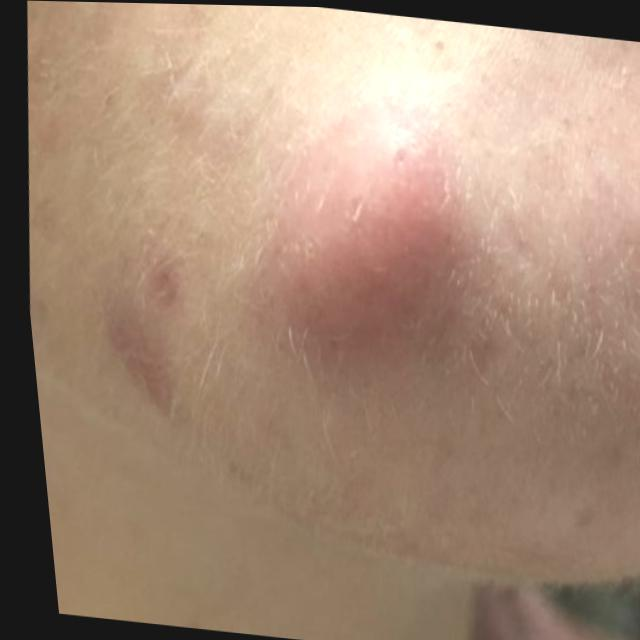nodule: (253, 73, 490, 372)
